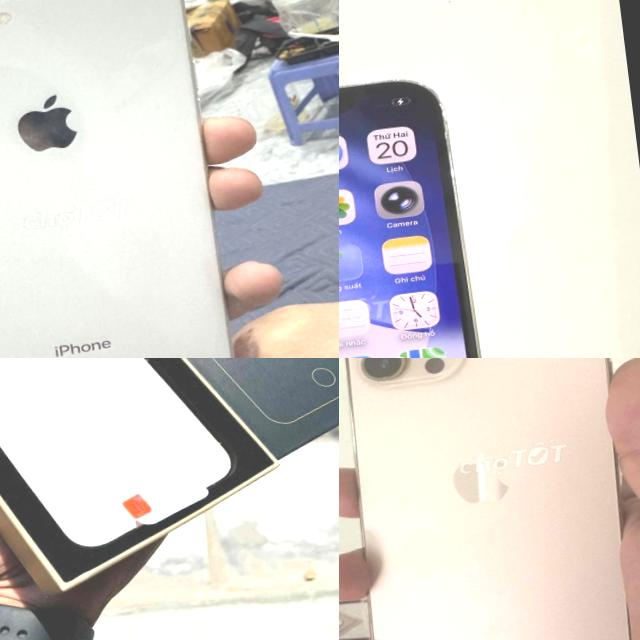gen_12_13: (339, 358, 640, 640), (339, 65, 524, 358), (0, 358, 229, 546)
gen_7_8: (0, 0, 271, 358)
